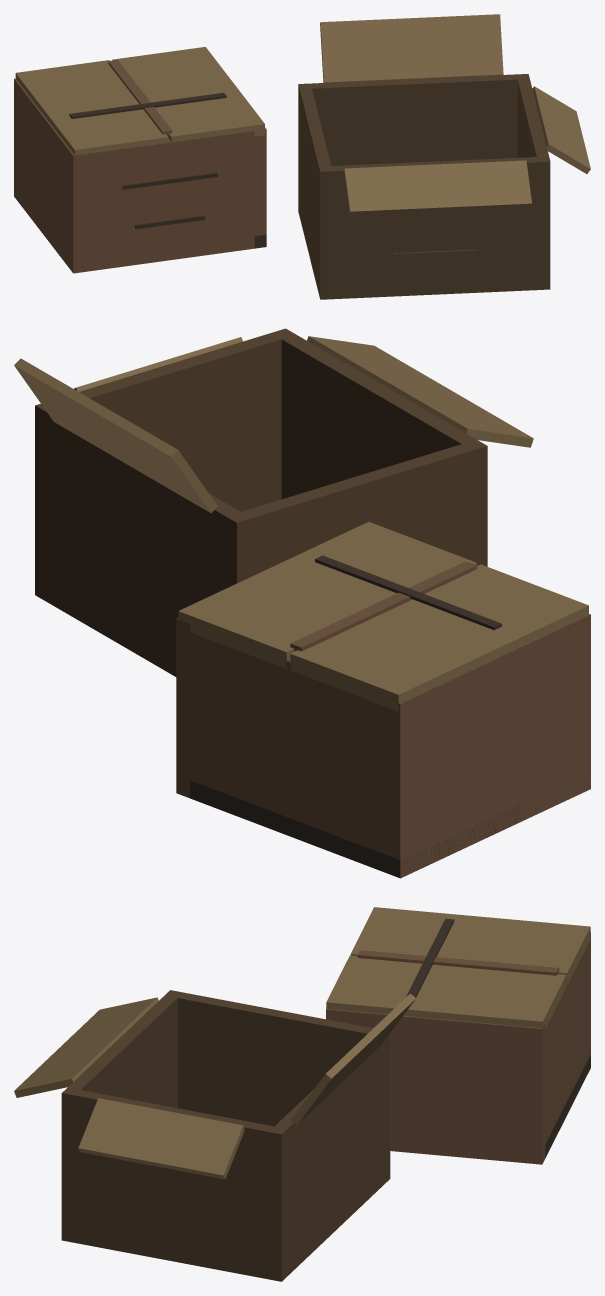
The model's file is CMU3DDecorFloorCardboardNorth.glb.
The picture shows the model from 3 angles, top to bottom: view 1: azimuth 30°, elevation 25°; view 2: azimuth 150°, elevation 25°; view 3: azimuth 270°, elevation 25°; orthographic projection. The views are drawn at different scales.
Visible parts, largest first — view 1: carton 1 front wall, carton 2 front wall, carton 2 back wall, carton 2 raised back flap, carton 2 folded front flap, carton 1 left wall, carton 1 closed lid half -1, carton 1 closed lid half 1, carton 2 left wall, carton 2 right wall, carton 2 side flap, carton 2 recessed bottom (+5 smaller); view 2: carton 1 left wall, carton 1 back wall, carton 2 back wall, carton 2 right wall, carton 1 closed lid half -1, carton 2 left wall, carton 1 closed lid half 1, carton 2 front wall, carton 2 raised back flap, carton 2 folded front flap, carton 1 recessed bottom, carton 1 right wall (+4 smaller); view 3: carton 2 right wall, carton 1 right wall, carton 2 left wall, carton 2 back wall, carton 1 closed lid half 1, carton 1 closed lid half -1, carton 2 side flap, carton 2 front wall, carton 1 back wall, carton 2 folded front flap, carton 2 raised back flap, carton 1 lid fold (+2 smaller).
Boxes of the visible parts, left/top/right/bottom form: carton 1 front wall: left=85, top=131, right=254, bottom=271; carton 2 front wall: left=331, top=157, right=537, bottom=298; carton 2 back wall: left=311, top=74, right=517, bottom=165; carton 2 raised back flap: left=320, top=14, right=503, bottom=82; carton 2 folded front flap: left=344, top=160, right=531, bottom=216; carton 1 left wall: left=14, top=78, right=84, bottom=273; carton 1 closed lid half -1: left=15, top=60, right=168, bottom=155; carton 1 closed lid half 1: left=112, top=47, right=264, bottom=142; carton 2 left wall: left=298, top=83, right=332, bottom=298; carton 2 right wall: left=516, top=74, right=550, bottom=289; carton 2 side flap: left=532, top=86, right=590, bottom=173; carton 2 recessed bottom: left=320, top=277, right=547, bottom=299; carton 1 left wall: left=386, top=614, right=590, bottom=878; carton 1 back wall: left=190, top=632, right=386, bottom=854; carton 2 back wall: left=46, top=411, right=240, bottom=676; carton 2 right wall: left=35, top=328, right=295, bottom=597; carton 1 closed lid half -1: left=290, top=564, right=588, bottom=711; carton 2 left wall: left=226, top=439, right=487, bottom=588; carton 1 closed lid half 1: left=178, top=521, right=476, bottom=668; carton 2 front wall: left=281, top=335, right=476, bottom=499; carton 2 raised back flap: left=14, top=358, right=217, bottom=513; carton 2 folded front flap: left=307, top=336, right=533, bottom=447; carton 1 recessed bottom: left=190, top=780, right=578, bottom=877; carton 1 right wall: left=176, top=618, right=189, bottom=798; carton 2 right wall: left=61, top=1087, right=287, bottom=1281; carton 1 right wall: left=326, top=1009, right=545, bottom=1164; carton 2 left wall: left=165, top=990, right=390, bottom=1183; carton 2 back wall: left=274, top=1041, right=384, bottom=1275; carton 1 closed lid half 1: left=326, top=955, right=566, bottom=1028; carton 1 closed lid half -1: left=350, top=907, right=590, bottom=985; carton 2 side flap: left=78, top=1098, right=244, bottom=1179; carton 2 front wall: left=68, top=995, right=177, bottom=1107; carton 1 back wall: left=545, top=945, right=587, bottom=1143; carton 2 folded front flap: left=14, top=997, right=158, bottom=1097; carton 2 raised back flap: left=291, top=993, right=415, bottom=1125; carton 1 lid fold: left=357, top=950, right=559, bottom=975.
Bounding box in the file's own units: 0.8953 × 0.3438 × 0.8867.
